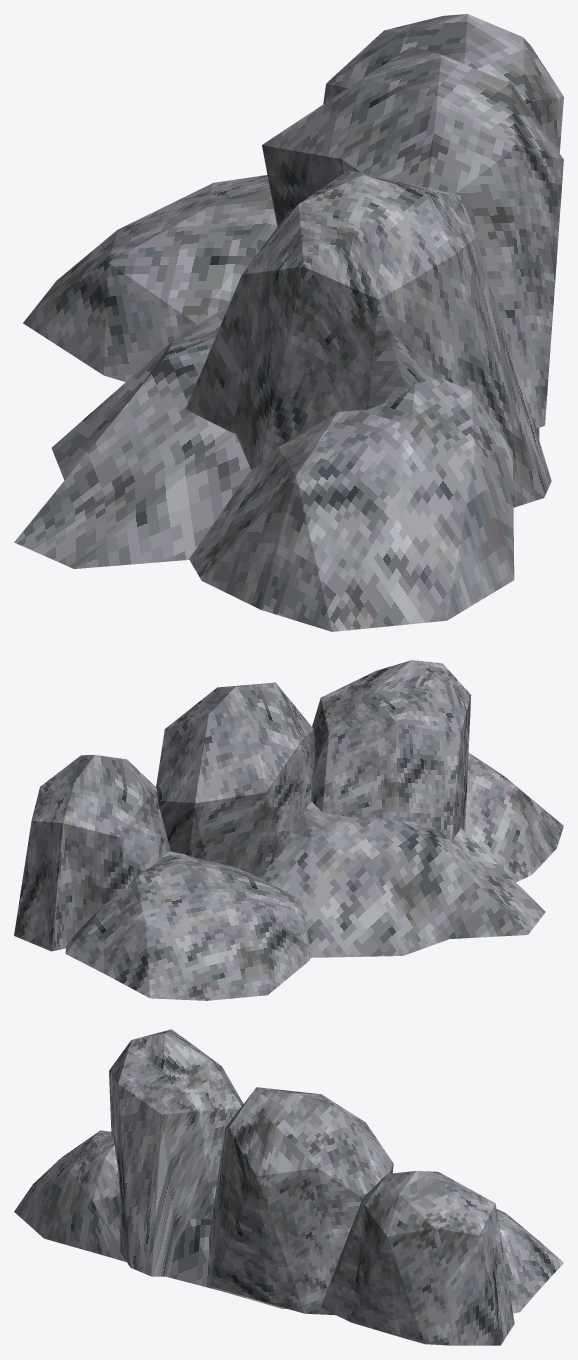
The model's file is lod_rockgp2_07.obj.
3 views of the same model, one above another, from view 1: azimuth 30°, elevation 25°; view 2: azimuth 150°, elevation 25°; view 3: azimuth 270°, elevation 25° (orthographic). The views are drawn at different scales.
Parts seen in each view (by area): view 1: lod_rockgp2_07; view 2: lod_rockgp2_07; view 3: lod_rockgp2_07.
Boxes of the visible parts, x1,y1,x2,y2 form: lod_rockgp2_07: [14, 14, 563, 631]; lod_rockgp2_07: [14, 660, 563, 1000]; lod_rockgp2_07: [14, 1029, 563, 1345].
Bounding box in the file's own units: 45.51 × 22.89 × 56.11.
Materials: 2 (2 with a texture image).
